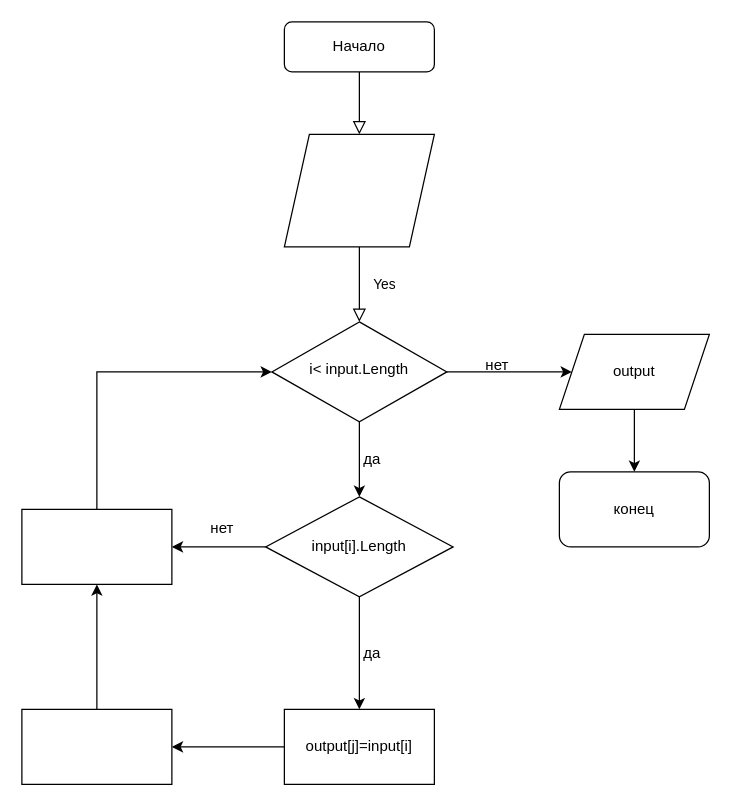
Image size: 731x806. Some labels were removed from this diagram. The box of each missing label's shape, as (x1, y1, x2, y2) in pixels:
i++: (21, 508, 172, 584)
j++: (21, 708, 172, 784)
string[] input string[] output i=0 j=0 int num=3: (283, 133, 434, 247)
